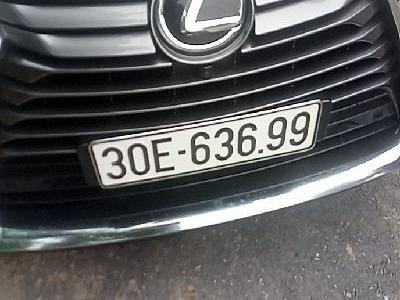number: (91, 102, 322, 187)
